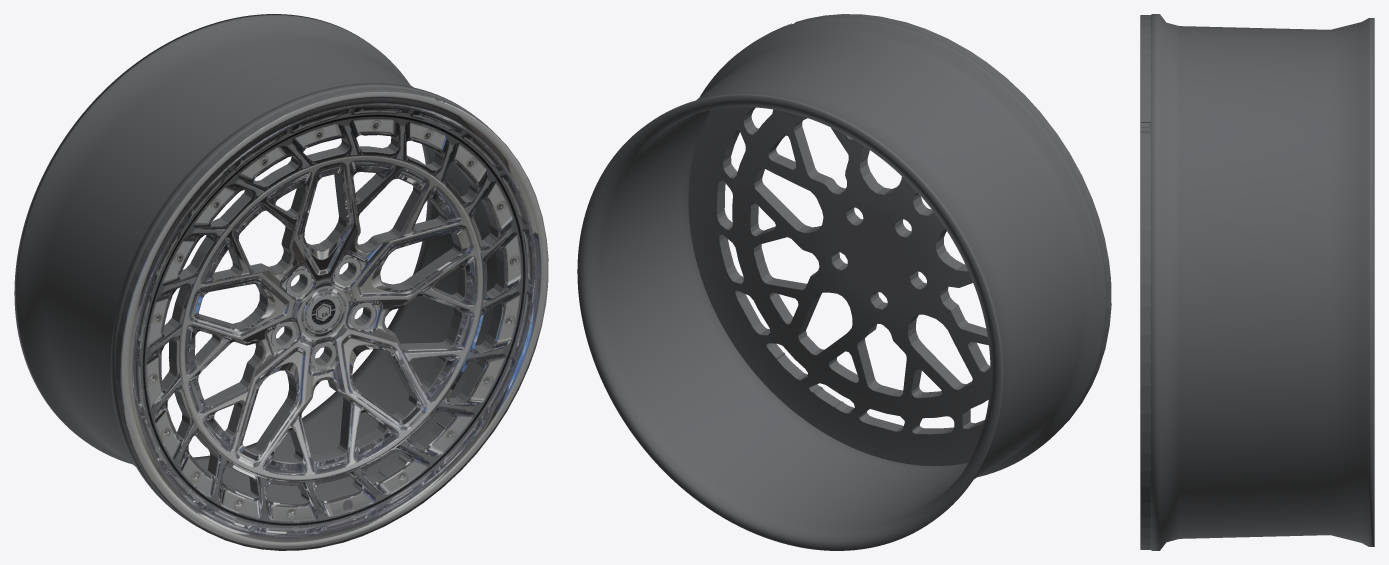
File: e6-multipiece-vr7.glb
3 views of the same model, side by side, from view 1: azimuth 30°, elevation 25°; view 2: azimuth 150°, elevation 25°; view 3: azimuth 270°, elevation 25° (orthographic). The views are drawn at different scales.
Parts seen in each view (by area): view 1: Photo_traced_face_0, Approximate_rear_barrel; view 2: Approximate_rear_barrel, Photo_traced_face_0; view 3: Approximate_rear_barrel, Photo_traced_face_0.
Part boxes in pixels (box(x1,y1,x2,y2)): Photo_traced_face_0: box(115, 87, 548, 550); Approximate_rear_barrel: box(14, 14, 496, 529); Approximate_rear_barrel: box(577, 17, 1107, 550); Photo_traced_face_0: box(688, 14, 1111, 465); Approximate_rear_barrel: box(1149, 14, 1374, 550); Photo_traced_face_0: box(1140, 15, 1150, 549).
Bounding box in the file's own units: 2.06 × 2.06 × 0.9.
2 materials, 1 textured.
